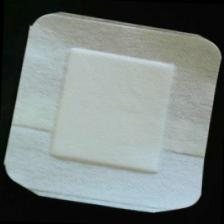Dressing: (1, 8, 224, 217)
